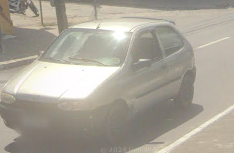car: (3, 19, 196, 137)
